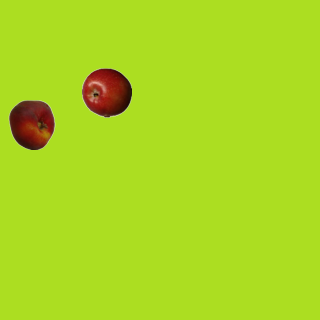Apple Braeburn: (81, 67, 131, 117)
Nectarine Flat: (6, 99, 56, 149)
